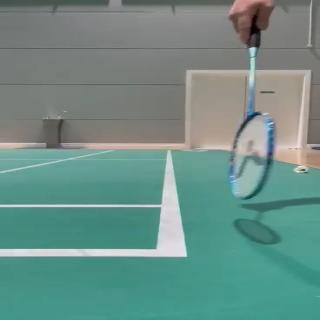Shuttle: (293, 165, 309, 174)
